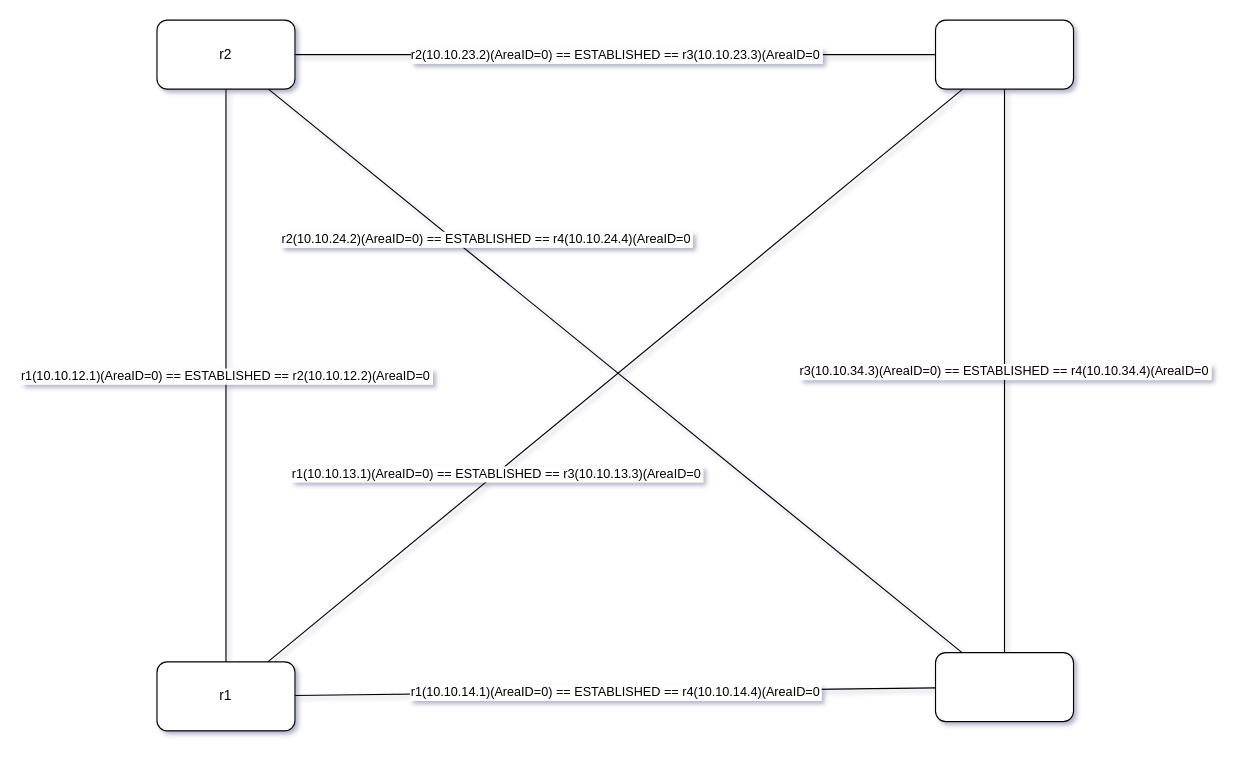
Some shapes in this 1236 by 758 pixel diagram are drawn without their labels. Here are the shapes that lost their labels. From the top down, the centre of each, then its label:
the point at 1004,54: r3
the point at 1004,686: r4
